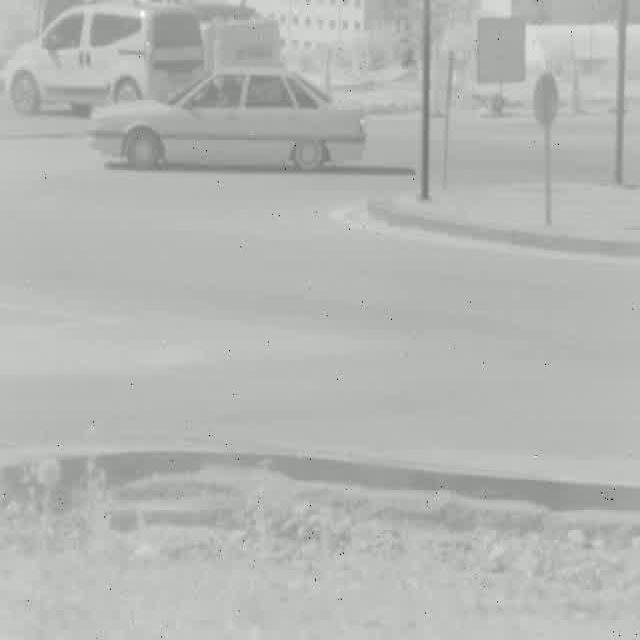Car: (85, 70, 364, 175), (4, 2, 203, 112)
